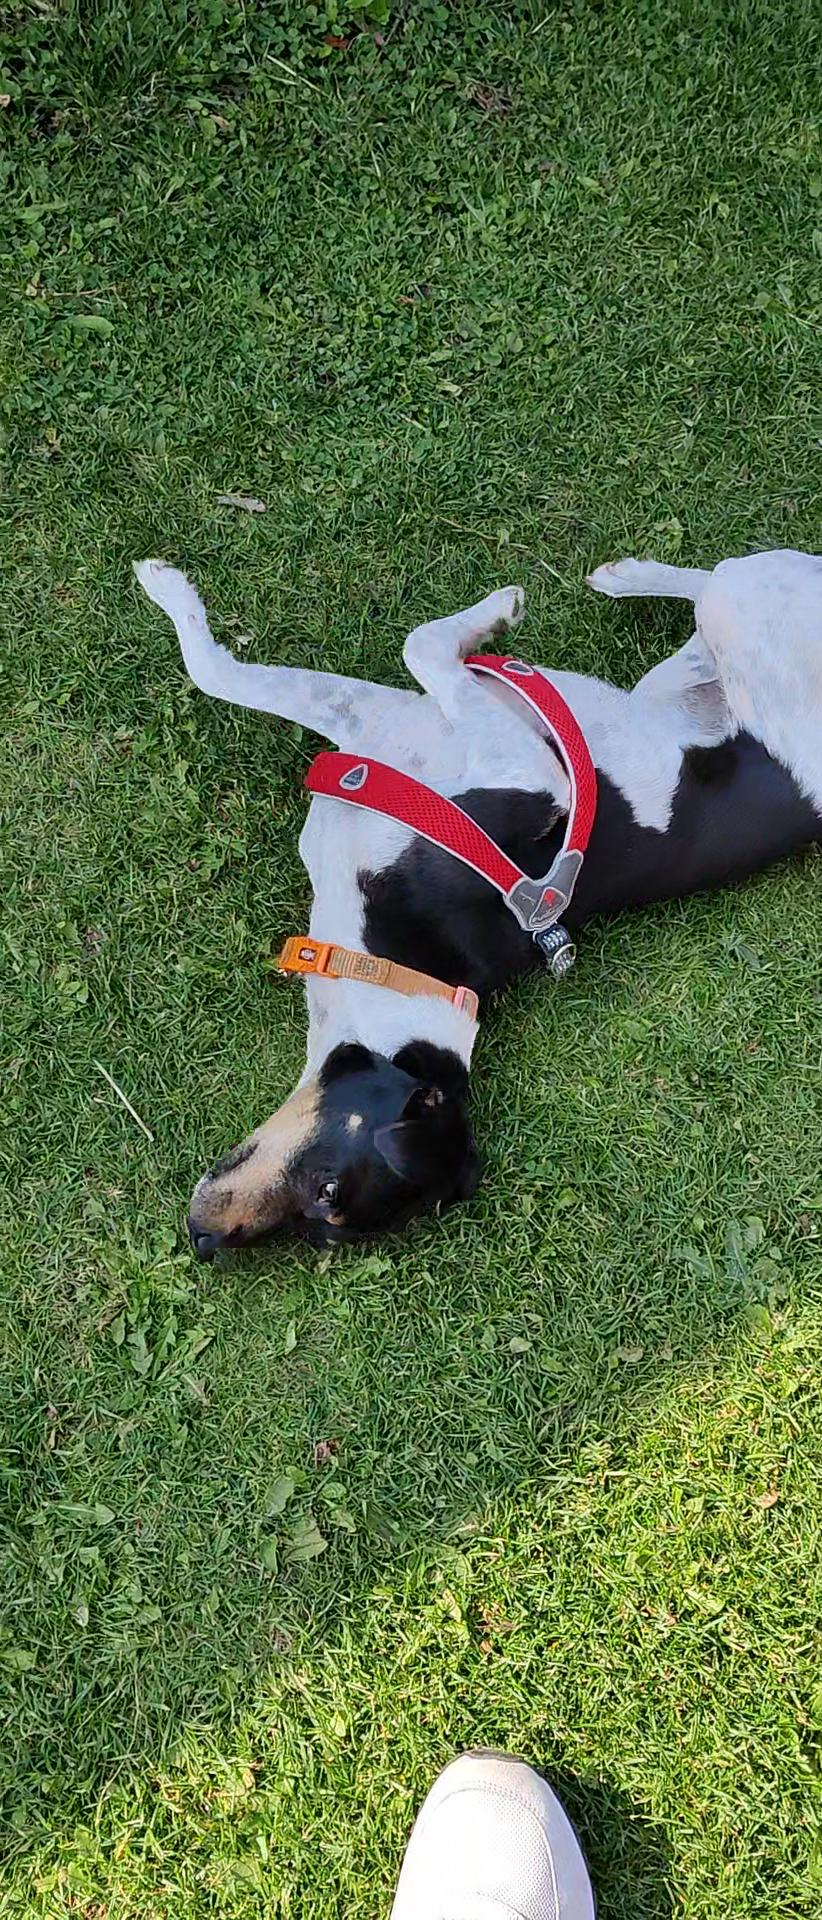Dog: (119, 508, 821, 1269)
